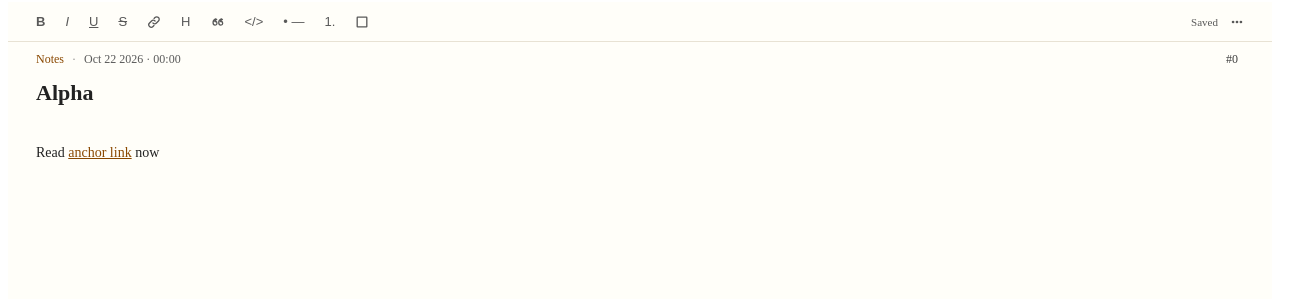
Test: Edit link prefills href and text and replaces the anchor
Click the link "anchor link" at (100, 152), box [68,145,132,160]
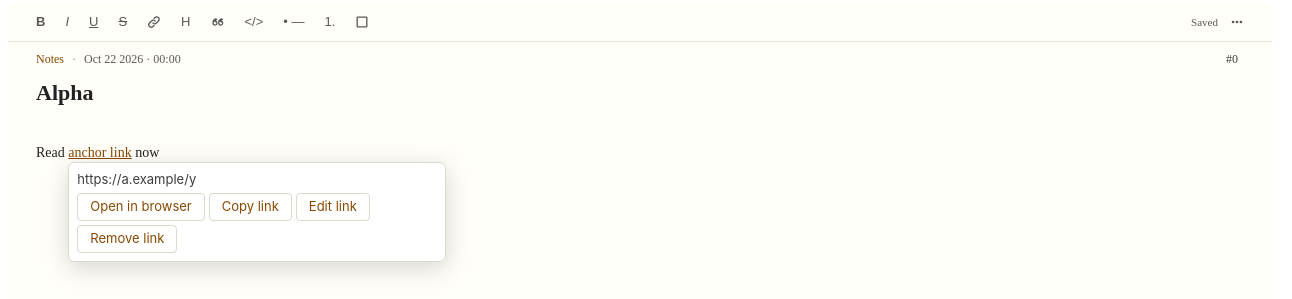
Click the button "Edit link" at (333, 206), box [296,192,370,220]
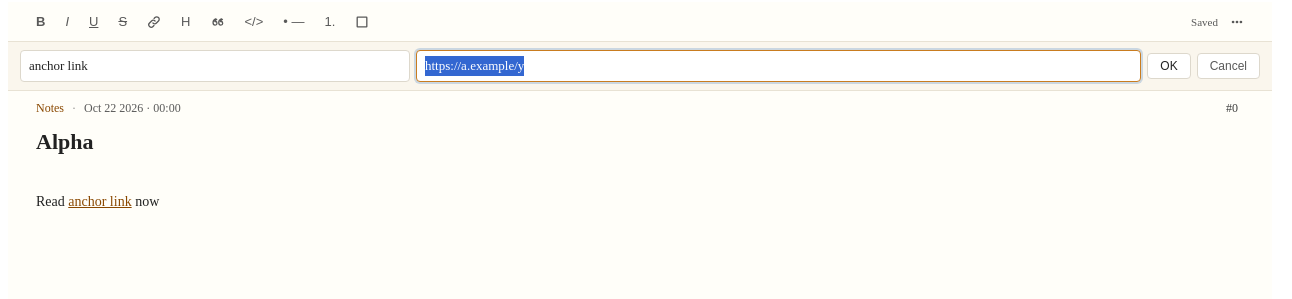
Now the element with class "link-prompt" is shown, box [8,42,1272,90]
Now the field with class "link-prompt-text" holds "anchor link", box [20,50,410,82]
Now the field with class "link-prompt-url" holds "https://a.example/y"
Replace the text in the field with class "link-prompt-url" with "https://b.example/z?q=\"1\"" at (779, 66), box [416,50,1141,82]
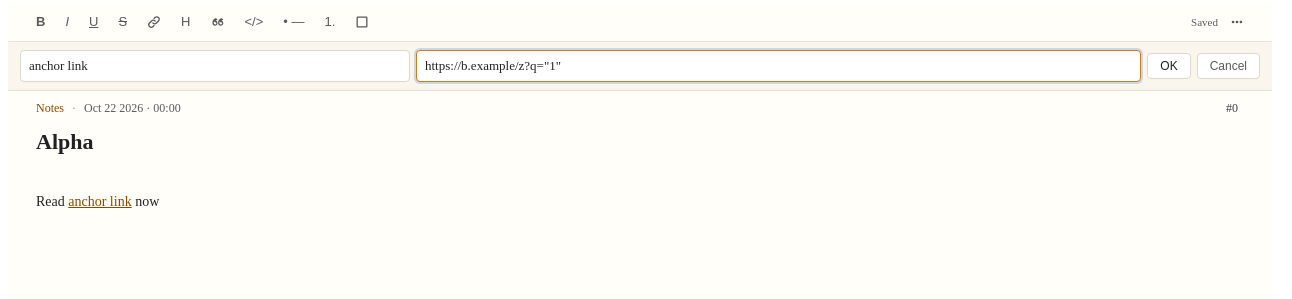
Replace the text in the field with class "link-prompt-text" with "new <text>" at (215, 66), box [20,50,410,82]
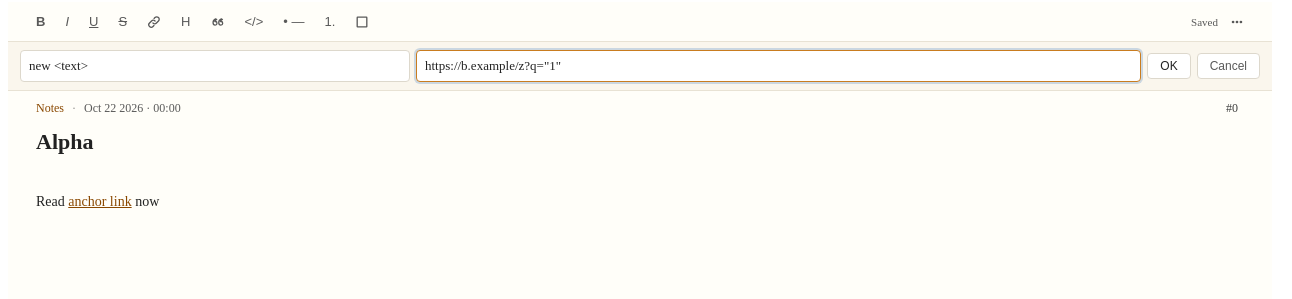
Click the button with class "link-prompt-btn" showing "OK" at (1169, 66), box [1147,53,1191,79]
Wait 1500 ms
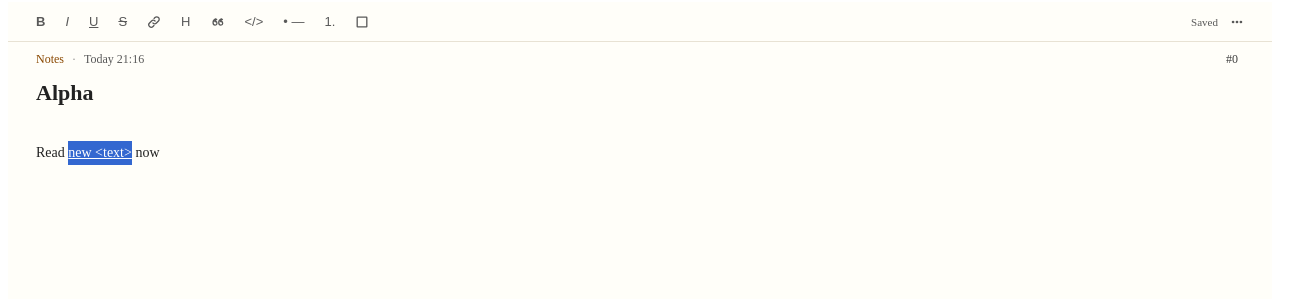
Expected: the number of links is 1, [68,145,132,160]
Now the element with class "link-prompt" is gone
